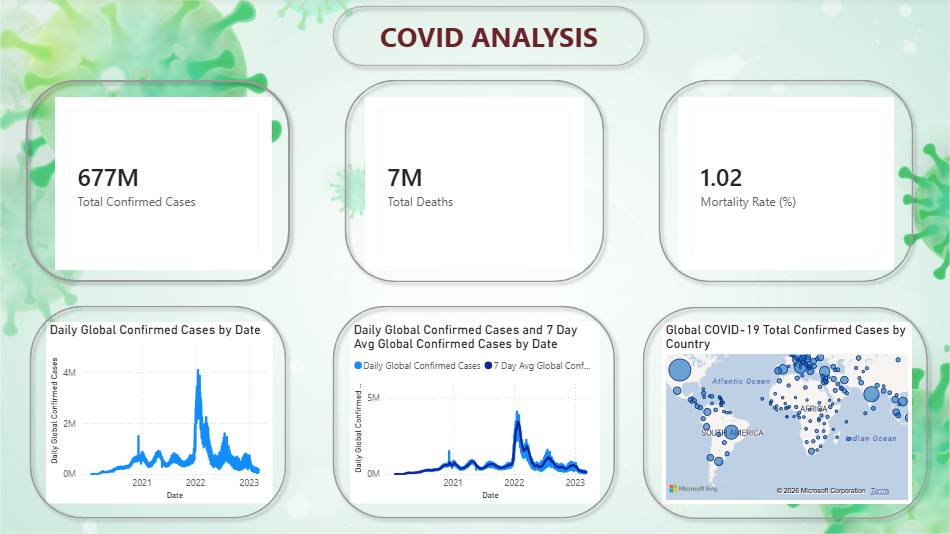

What the dashboard file says about the page in this screenshot:
{"tool":"powerbi","page":{"name":"COVID Analysis","canvas":[1280,720],"ordinal":0},"visuals":[{"type":"lineChart","fields":{"Category":["CONVENIENT_global_confirmed_cases.Date"],"Y":["CONVENIENT_global_confirmed_cases.Daily Global Confirmed Cases"]},"box":[70,428.7,300.7,241.1],"z":3000},{"type":"lineChart","fields":{"Y":["CONVENIENT_global_confirmed_cases.Daily Global Confirmed Cases","CONVENIENT_global_confirmed_cases.7 Day Avg Global Confirmed Cases"],"Category":["CONVENIENT_global_confirmed_cases.Date"]},"box":[474.8,428.7,331.9,241.1],"z":4000},{"type":"map","title":"Global COVID-19 Total Confirmed Cases by Country","fields":{"Category":["CONVENIENT_global_metadata.Country/Region"],"Y":["Avg(CONVENIENT_global_metadata.Lat)"],"X":["Avg(CONVENIENT_global_metadata.Long)"],"Size":["CONVENIENT_global_confirmed_cases.Total Confirmed Cases"]},"box":[888.6,428.7,331.9,241.1],"z":5000},{"type":"shape","box":[34.5,98.3,369.3,286.9],"z":6000},{"type":"shape","box":[458.3,98.3,362.7,286.9],"z":7000},{"type":"shape","box":[875.4,98.3,356,286.9],"z":8000},{"type":"shape","box":[40.2,398.9,358.7,300.7],"z":9000},{"type":"shape","box":[442,398.9,392.9,300.7],"z":10000},{"type":"shape","box":[854.6,399.5,396.6,300],"z":11000},{"type":"cardVisual","fields":{"Data":["CONVENIENT_global_confirmed_cases.Total Confirmed Cases"]},"box":[82.4,130.2,288.3,229.8],"z":13000},{"type":"cardVisual","fields":{"Data":["CONVENIENT_global_confirmed_cases.Total Deaths"]},"box":[494.2,130.2,290.9,229.8],"z":13500},{"type":"cardVisual","fields":{"Data":["CONVENIENT_global_confirmed_cases.Mortality Rate (%)"]},"box":[910,130.2,286.9,229.8],"z":14000},{"type":"shape","box":[442.4,0,433.1,98.3],"z":14001}]}

Visuals, with their boxes in screenshot pixels (x1, y1, x2, y2), scaled from the page's 1280x720 canvas onto the 950x534 screenshot:
lineChart - CONVENIENT_global_confirmed_cases.Date x CONVENIENT_global_confirmed_cases.Daily Global Confirmed Cases: locate(52, 318, 275, 497)
lineChart - CONVENIENT_global_confirmed_cases.Daily Global Confirmed Cases x CONVENIENT_global_confirmed_cases.7 Day Avg Global Confirmed Cases: locate(352, 318, 599, 497)
"Global COVID-19 Total Confirmed Cases by Country" map: locate(660, 318, 906, 497)
shape: locate(26, 73, 300, 286)
shape: locate(340, 73, 609, 286)
shape: locate(650, 73, 914, 286)
shape: locate(30, 296, 296, 519)
shape: locate(328, 296, 620, 519)
shape: locate(634, 296, 929, 519)
cardVisual - CONVENIENT_global_confirmed_cases.Total Confirmed Cases: locate(61, 97, 275, 267)
cardVisual - CONVENIENT_global_confirmed_cases.Total Deaths: locate(367, 97, 583, 267)
cardVisual - CONVENIENT_global_confirmed_cases.Mortality Rate (%): locate(675, 97, 888, 267)
shape: locate(328, 0, 650, 73)
